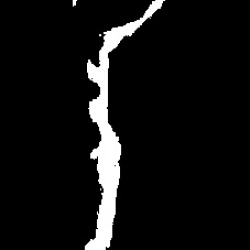crack: (83, 1, 166, 246)
pinhole: (71, 1, 78, 8)
